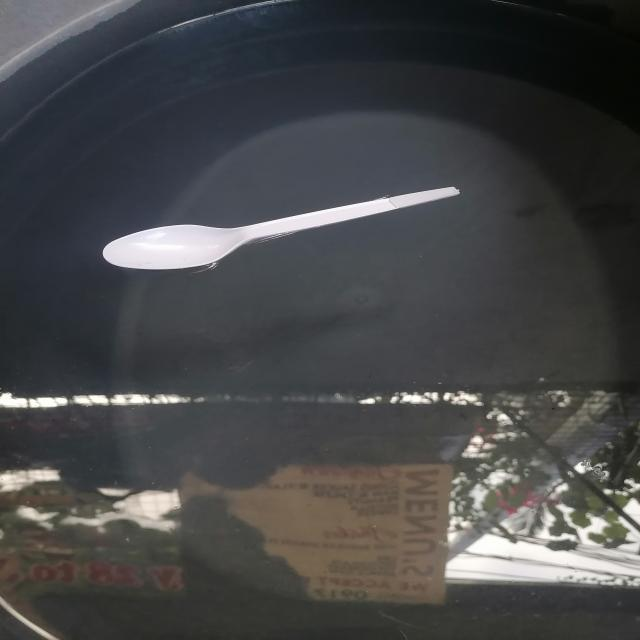Plastic Spoon: (103, 196, 409, 270)
